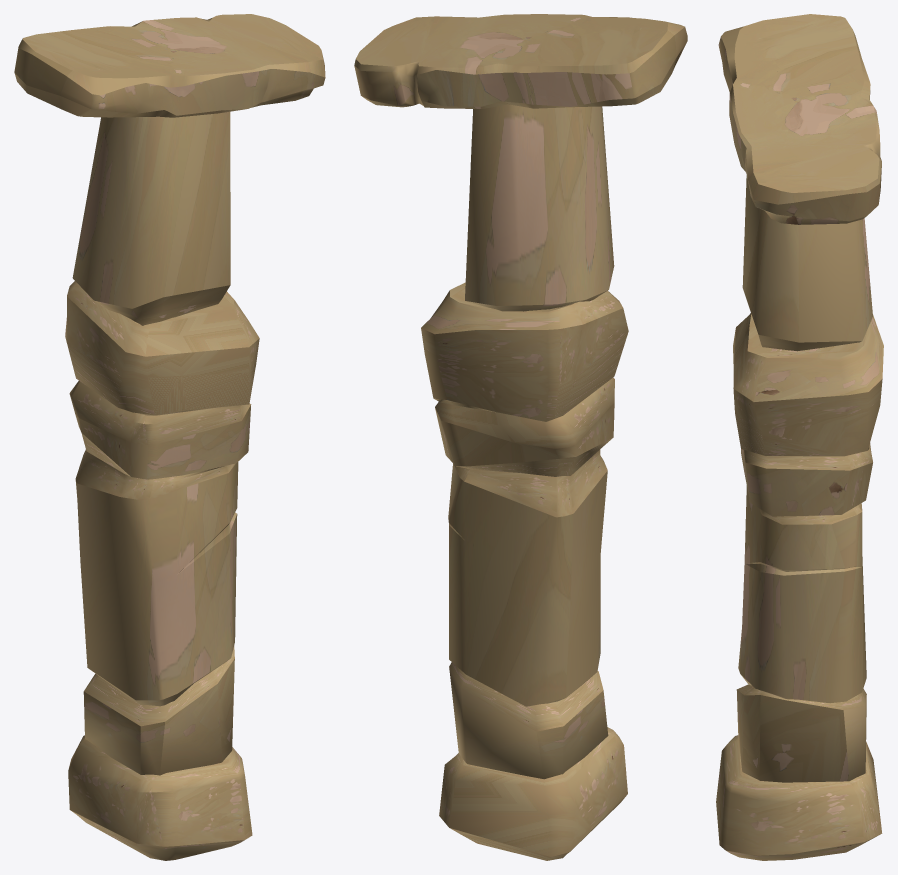
File: Pillar.fbx
3 views of the same model, side by side, from view 1: azimuth 30°, elevation 25°; view 2: azimuth 150°, elevation 25°; view 3: azimuth 270°, elevation 25° (orthographic). The views are drawn at different scales.
Parts seen in each view (by area): view 1: SM_Act1_2400x2400x6000_Oasis_01.001; view 2: SM_Act1_2400x2400x6000_Oasis_01.001; view 3: SM_Act1_2400x2400x6000_Oasis_01.001.
Part boxes in pixels (left/top/right/bottom): SM_Act1_2400x2400x6000_Oasis_01.001: left=14, top=14, right=325, bottom=860; SM_Act1_2400x2400x6000_Oasis_01.001: left=354, top=14, right=687, bottom=860; SM_Act1_2400x2400x6000_Oasis_01.001: left=716, top=14, right=883, bottom=860.
Bounding box in the file's own units: 234903 × 634012 × 125800.
1 material, 1 textured.
